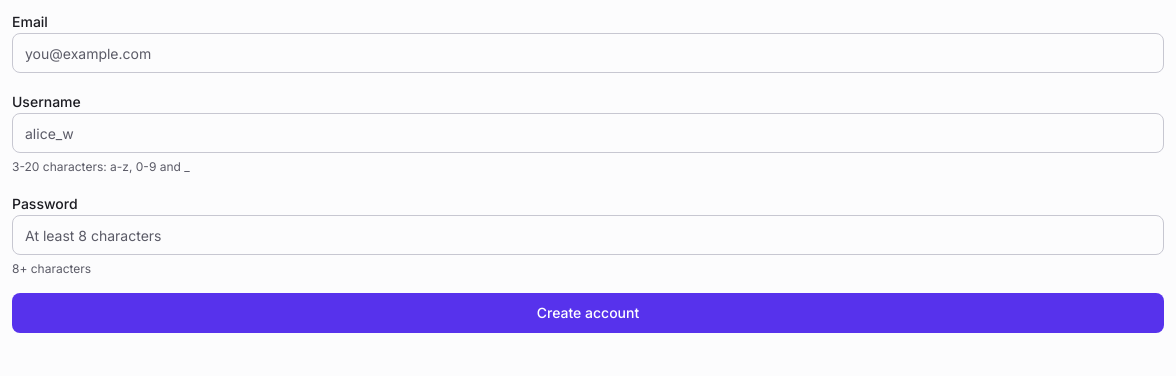
Test: RegisterForm › puts a server conflict on the email field
The width and height of the screenshot is (1176, 376).
Type "ada@example.com" into the field labelled "Email".
click(588, 53); type("ada@example.com")  # box [12,33,1164,73]
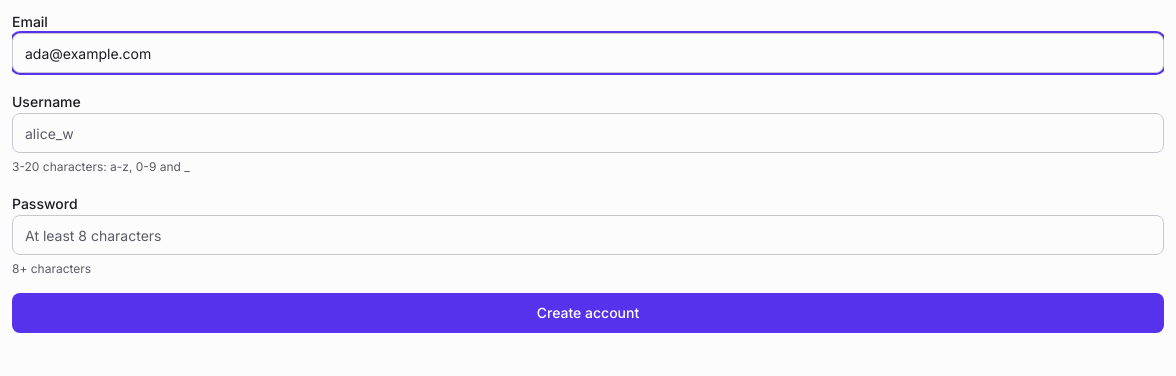
Type "ada_1" into the field labelled "Username".
click(588, 133); type("ada_1")  # box [12,113,1164,153]
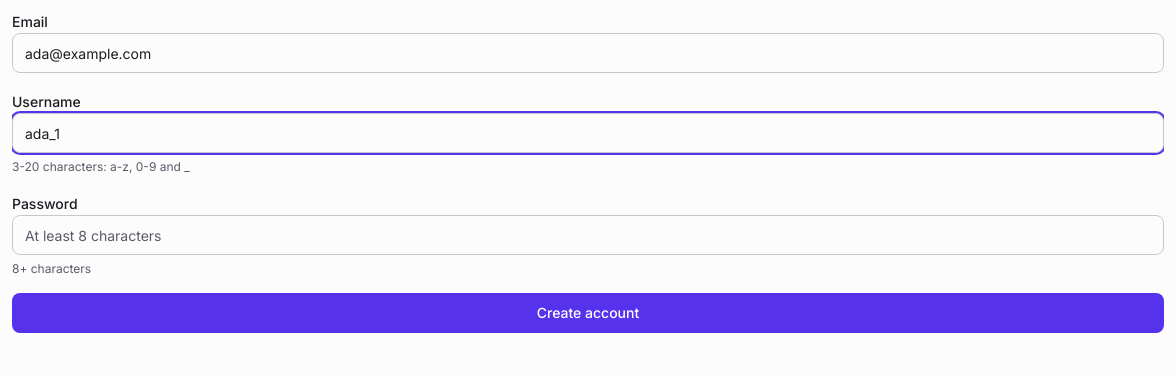
Type "longenough" into the password field labelled "Password".
click(588, 235); type("longenough")  # box [12,215,1164,255]
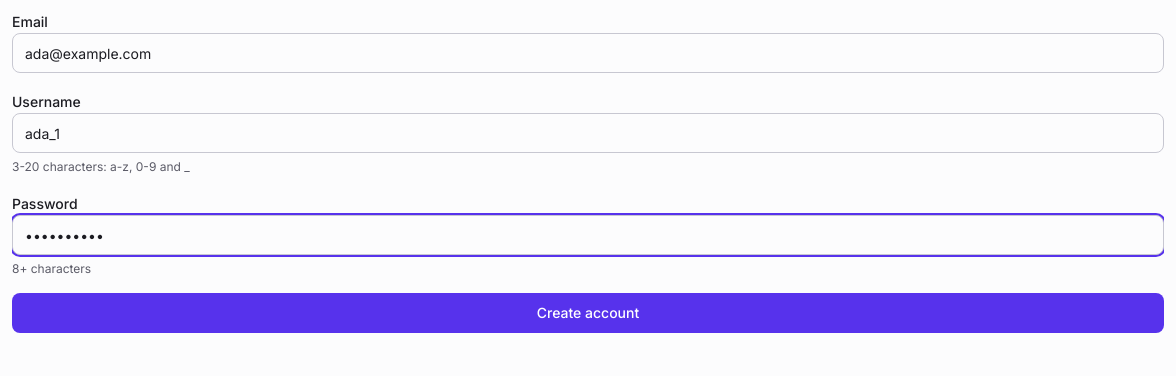
Click the button "Create account".
click(588, 313)  # box [12,293,1164,333]
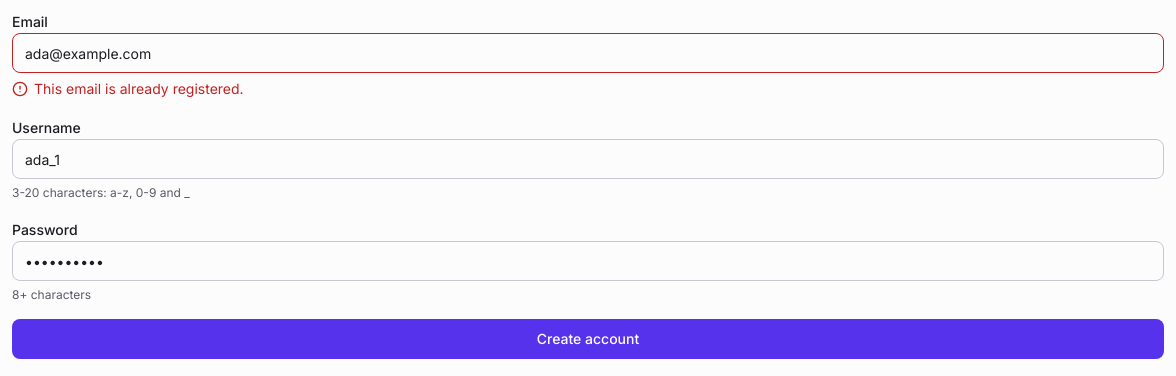
Check: the text "This email is already registered." is shown, box [34,79,244,99]
